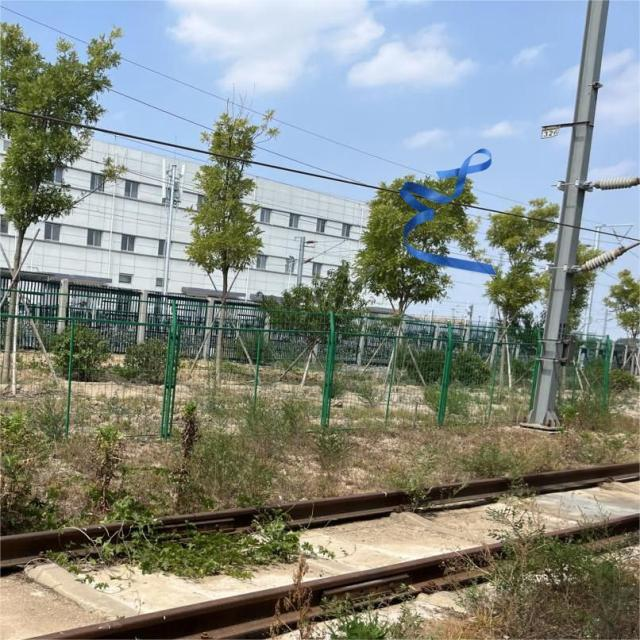floating object: (394, 143, 491, 274)
